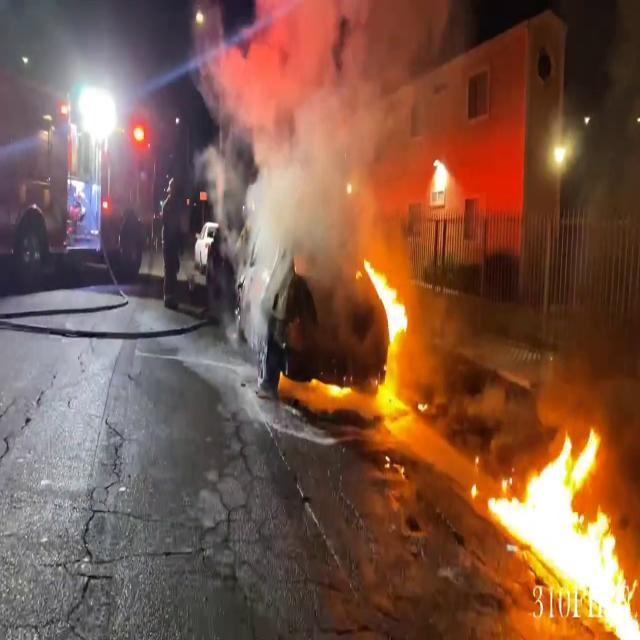Fire: (477, 418, 640, 636), (362, 252, 416, 398), (428, 151, 452, 208)
Smoke: (219, 0, 447, 245)
